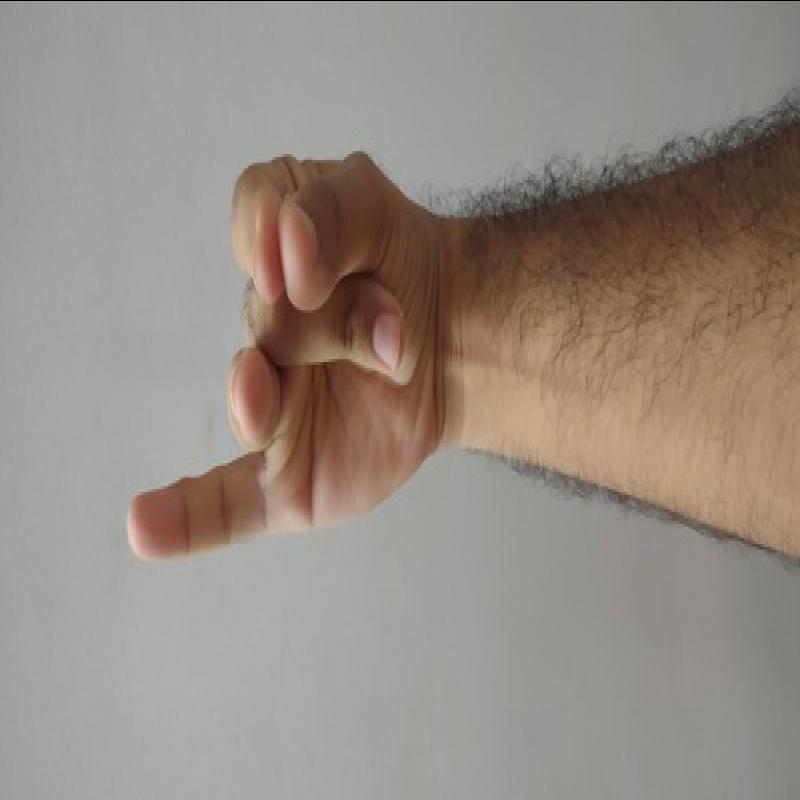Katakam: (39, 147, 470, 568)
